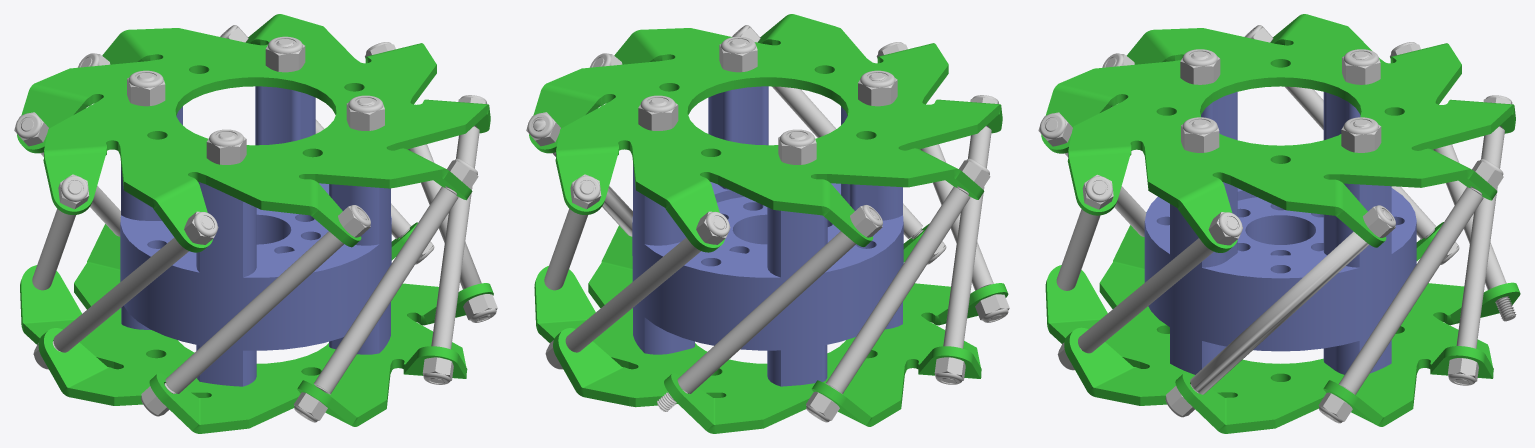
The model's file is leftFront-inner-dec-25.fbx.
The picture shows the model from 3 angles, left to right: view 1: azimuth 30°, elevation 25°; view 2: azimuth 150°, elevation 25°; view 3: azimuth 270°, elevation 25°; orthographic projection.
Parts seen in each view (by area): view 1: Body1, Body1.019, Body1.051, Body1.018, Body1.005, Body1.023, Body1.038, Body1.012, Body1.007, Body1.028, Body1.033, Body1.006 (+12 smaller); view 2: Body1, Body1.019, Body1.051, Body1.012, Body1.017, Body1.038, Body1.008, Body1.052, Body1.018, Body1.005, Body1.028, Body1.033 (+11 smaller); view 3: Body1, Body1.019, Body1.051, Body1.052, Body1.007, Body1.008, Body1.023, Body1.018, Body1.017, Body1.012, Body1.028, Body1.033 (+11 smaller).
Boxes of the visible parts, box(x1,y1,x2,y2) form: Body1: box(17, 14, 490, 252); Body1.019: box(120, 86, 391, 386); Body1.051: box(20, 222, 493, 433); Body1.018: box(299, 186, 458, 419); Body1.005: box(164, 209, 366, 393); Body1.023: box(430, 125, 479, 383); Body1.038: box(52, 217, 212, 352); Body1.012: box(32, 182, 81, 290); Body1.007: box(408, 144, 490, 320); Body1.028: box(265, 36, 305, 72); Body1.033: box(206, 129, 246, 164); Body1.006: box(127, 70, 165, 106); Body1: box(529, 14, 1002, 252); Body1.019: box(632, 86, 903, 386); Body1.051: box(534, 223, 1008, 433); Body1.012: box(811, 186, 970, 419); Body1.017: box(657, 209, 878, 411); Body1.038: box(941, 125, 991, 382); Body1.008: box(565, 217, 724, 352); Body1.052: box(544, 181, 593, 290); Body1.018: box(732, 29, 923, 238); Body1.005: box(920, 144, 1002, 320); Body1.028: box(638, 95, 678, 130); Body1.033: box(858, 70, 897, 106); Body1: box(1041, 14, 1515, 252); Body1.019: box(1144, 92, 1416, 374); Body1.051: box(1045, 222, 1520, 433); Body1.052: box(1324, 186, 1483, 420); Body1.007: box(1190, 209, 1391, 394); Body1.008: box(1455, 126, 1504, 383); Body1.023: box(1078, 217, 1237, 353); Body1.018: box(1056, 182, 1106, 290); Body1.017: box(1433, 144, 1516, 321); Body1.012: box(1245, 29, 1435, 239); Body1.028: box(1341, 117, 1381, 152); Body1.033: box(1180, 49, 1220, 84).
Size of the model in its own units: 9.51 by 5.9 by 9.58.
